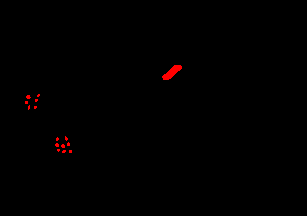Target: (162, 65, 182, 80), (26, 95, 31, 99), (55, 143, 59, 147), (61, 144, 65, 148), (65, 136, 68, 141), (56, 137, 59, 141), (67, 142, 70, 146), (62, 150, 66, 153), (28, 105, 30, 110), (37, 94, 40, 97), (35, 99, 38, 102), (25, 101, 28, 104), (34, 106, 37, 109), (57, 149, 60, 152), (69, 150, 72, 153)
